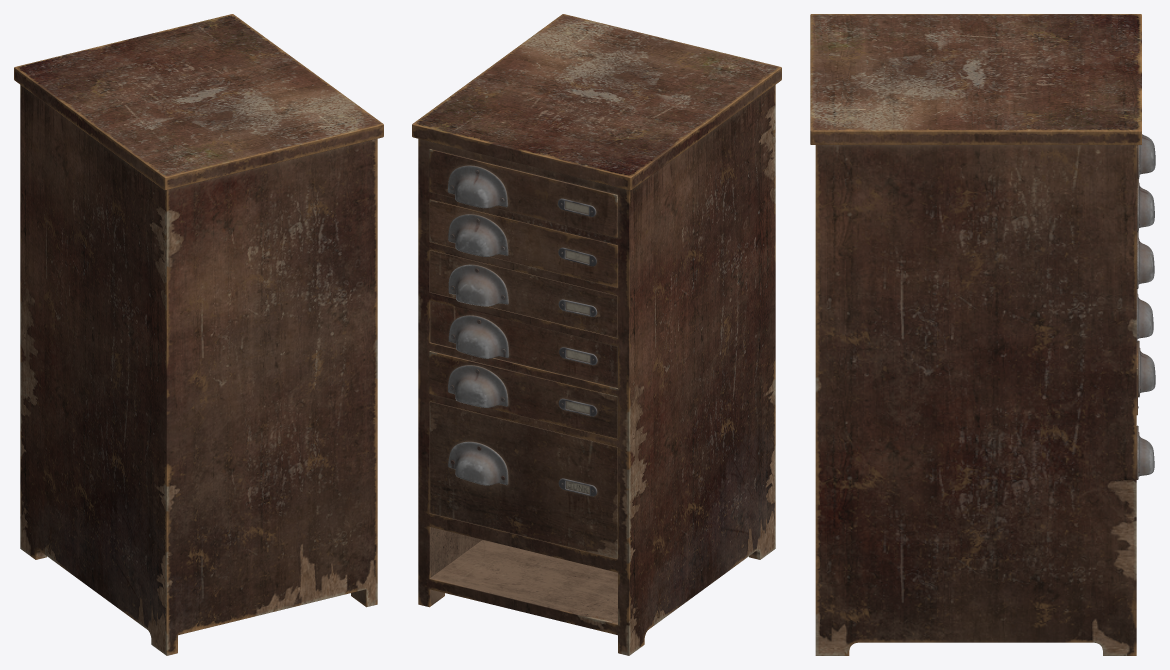
The model's file is vintage_laminated_wood_file_cabinet.glb.
3 renders of one model, left to right at view 1: azimuth 30°, elevation 25°; view 2: azimuth 150°, elevation 25°; view 3: azimuth 270°, elevation 25°, orthographic. The views are drawn at different scales.
Parts seen in each view (by area): view 1: FileCabinet; view 2: FileCabinet; view 3: FileCabinet.
Part boxes in pixels (box(x1,y1,x2,y2)): FileCabinet: box(14, 14, 383, 655); FileCabinet: box(412, 14, 781, 655); FileCabinet: box(810, 14, 1155, 655).
Bounding box in the file's own units: 0.5504 × 1.15 × 0.6847.
Materials: 1 (1 with a texture image).
